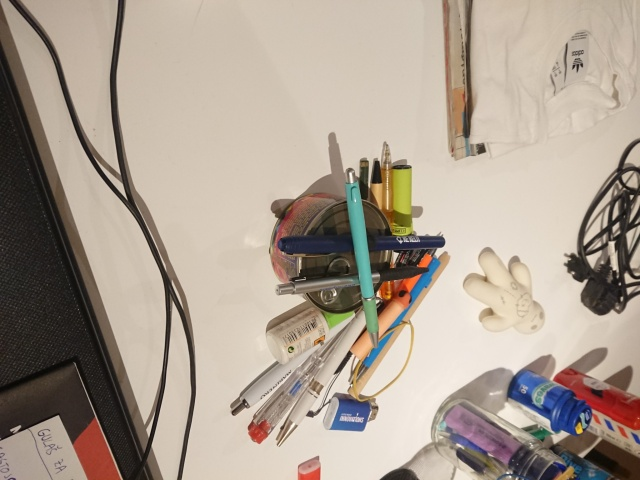Giana Tuna Salad Mexico 185g: (264, 188, 395, 317)
